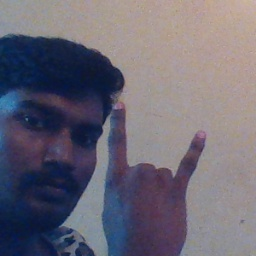V: (105, 96, 211, 256)
